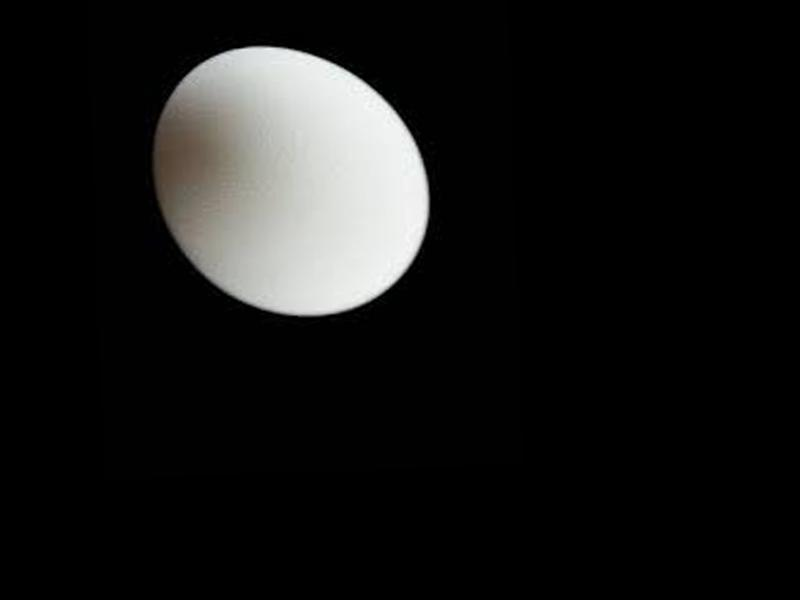Eggs: (152, 39, 432, 319)
